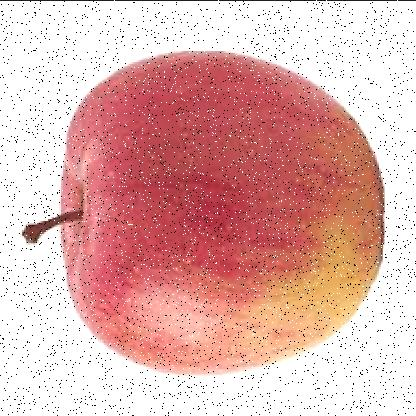apple: (63, 54, 387, 370)
